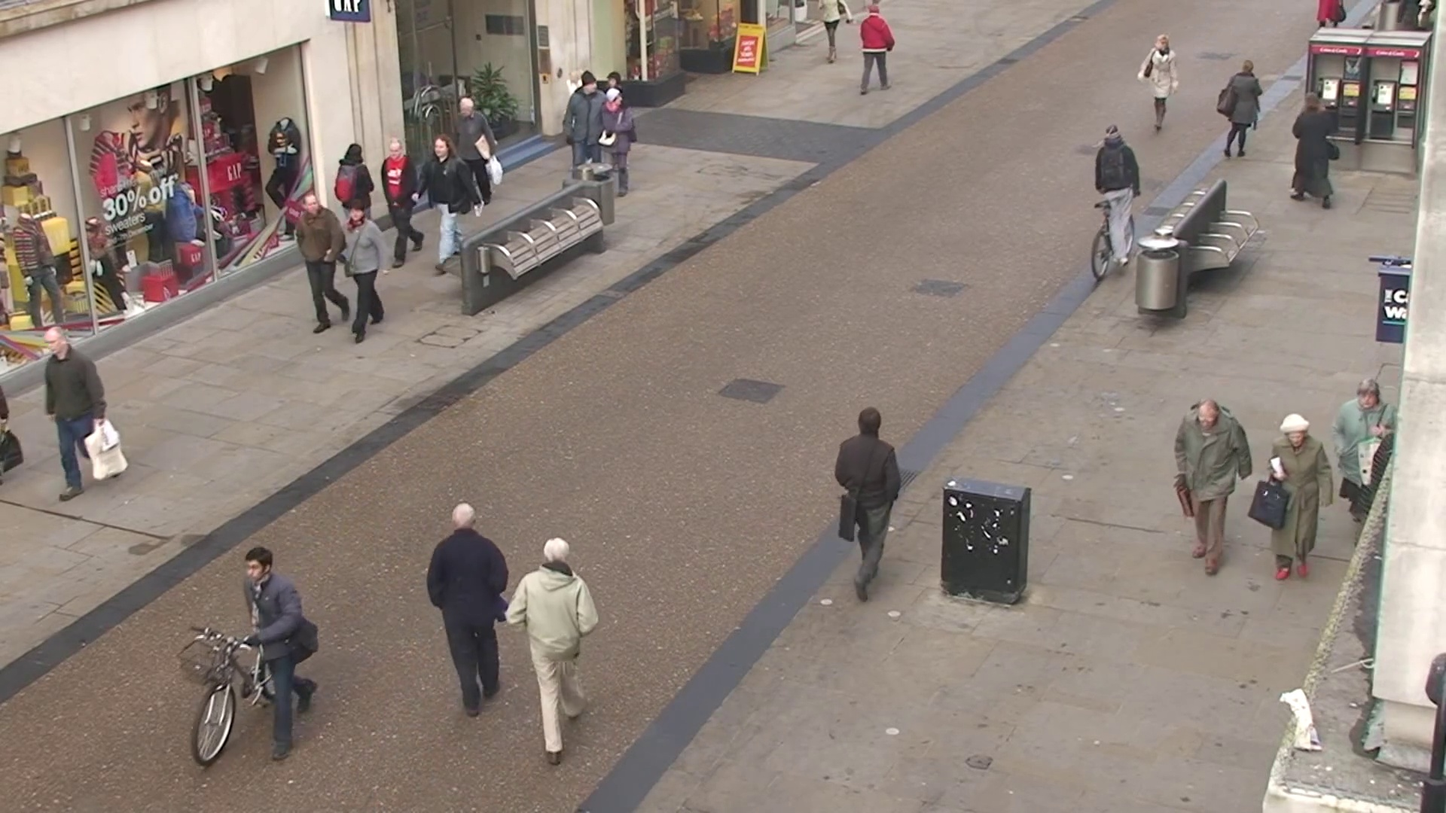person: (503, 536, 599, 763), (426, 501, 511, 717), (242, 547, 318, 738), (834, 407, 905, 600), (1177, 399, 1253, 576), (39, 330, 108, 498), (1264, 415, 1332, 582), (1331, 376, 1395, 523), (289, 184, 349, 333), (419, 134, 481, 276), (340, 206, 391, 344), (1094, 123, 1142, 269), (1291, 90, 1341, 209), (380, 140, 423, 264), (1219, 63, 1265, 159), (1137, 33, 1179, 136), (599, 82, 637, 195), (563, 72, 602, 174), (857, 2, 895, 93), (1136, 34, 1177, 86)
